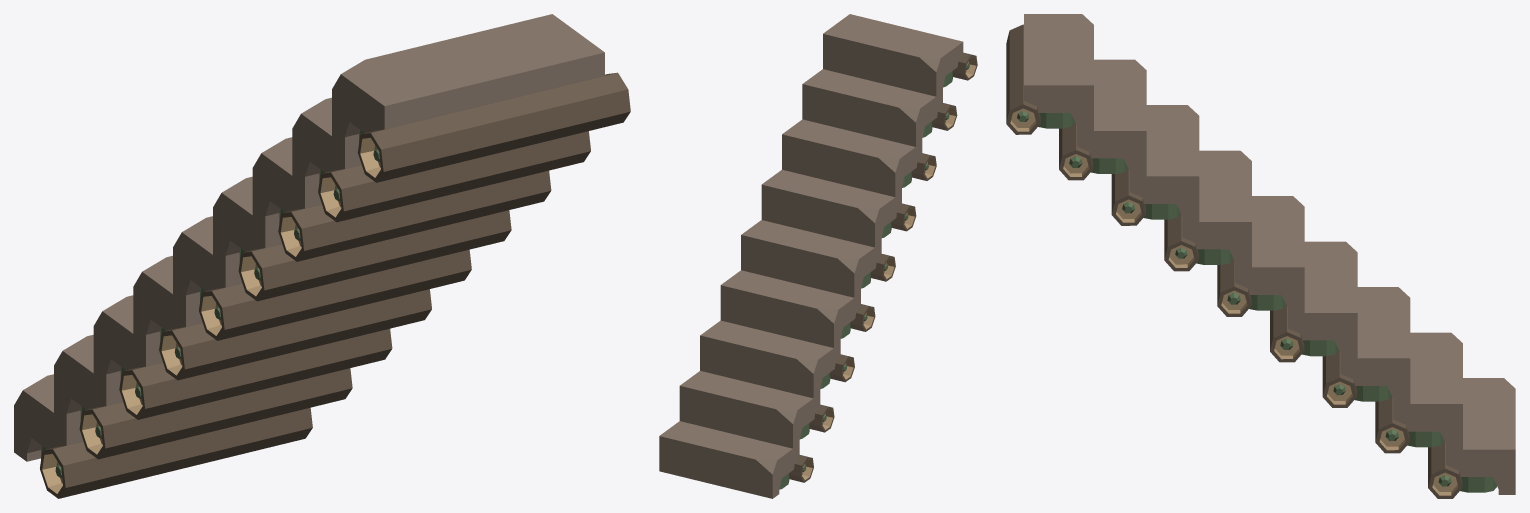
File: stairs_full.fbx
3 renders of one model, left to right at view 1: azimuth 30°, elevation 25°; view 2: azimuth 150°, elevation 25°; view 3: azimuth 270°, elevation 25°, orthographic. The views are drawn at different scales.
Parts seen in each view (by area): view 1: STAIRS_3, STAIRS_2, STAIRS_1; view 2: STAIRS_3, STAIRS_1, STAIRS_2; view 3: STAIRS_3, STAIRS_1, STAIRS_2.
Boxes of the visible parts, <box> form: STAIRS_3: <box>252,14,630,261</box>; STAIRS_2: <box>133,176,511,380</box>; STAIRS_1: <box>14,295,392,498</box>; STAIRS_3: <box>782,14,977,197</box>; STAIRS_1: <box>659,320,854,498</box>; STAIRS_2: <box>720,169,916,347</box>; STAIRS_3: <box>1006,14,1199,225</box>; STAIRS_1: <box>1322,287,1515,498</box>; STAIRS_2: <box>1164,150,1357,362</box>.
Size of the model in its own units: 112 by 268 by 302.
